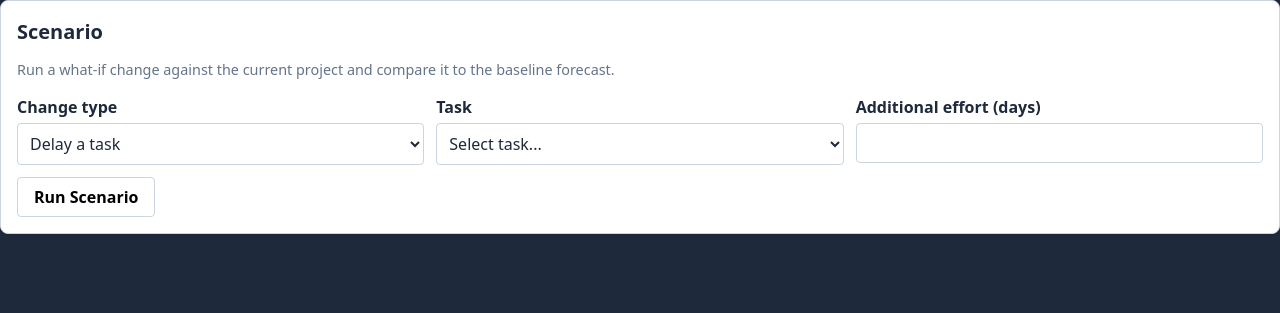
Test: ScenarioPanel › rejects a non-positive delay amount
Select "t2 — Build feature" in the dropdown with test id "scenario-task-select" at (640, 144), box [436, 123, 844, 165]
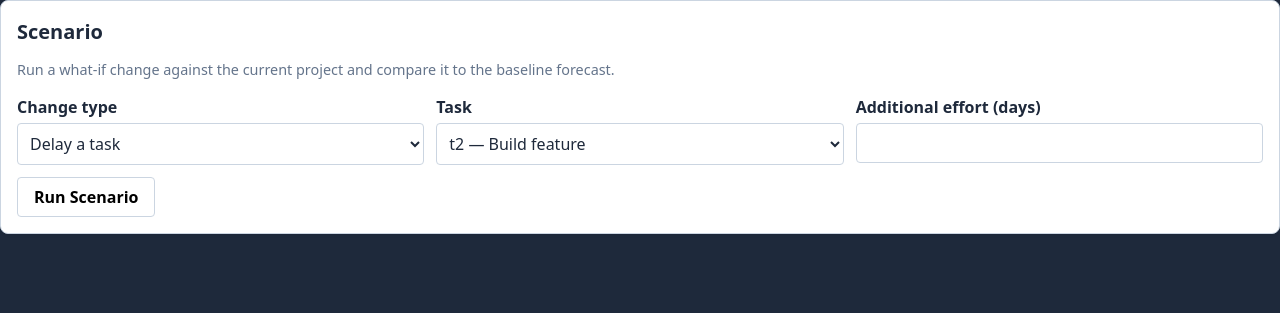
Type "0" into the number field with test id "scenario-amount-input" at (1059, 143), box [856, 123, 1263, 163]
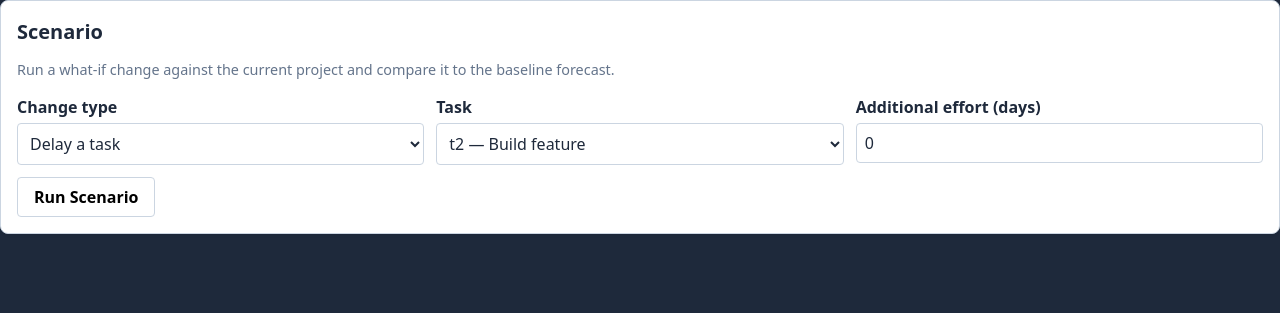
Click the button with test id "run-scenario-button" at (86, 197), box [17, 177, 156, 217]
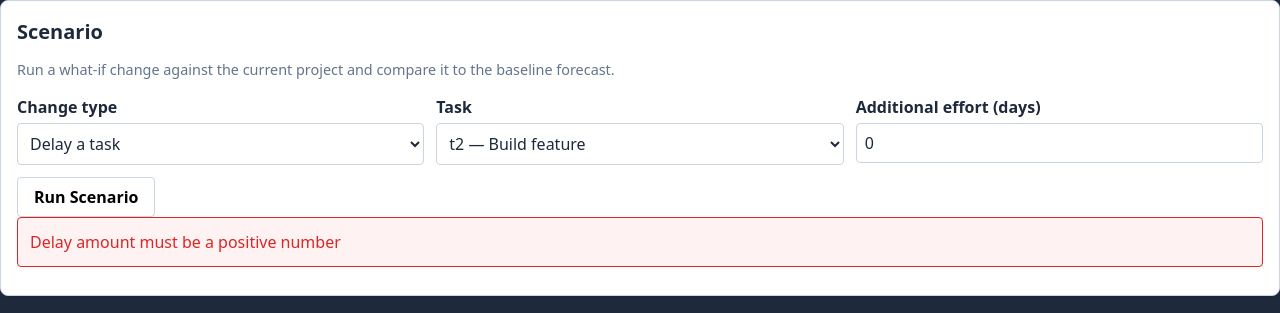
Check: the message with test id "scenario-error" shows "positive", box [30, 231, 341, 253]
